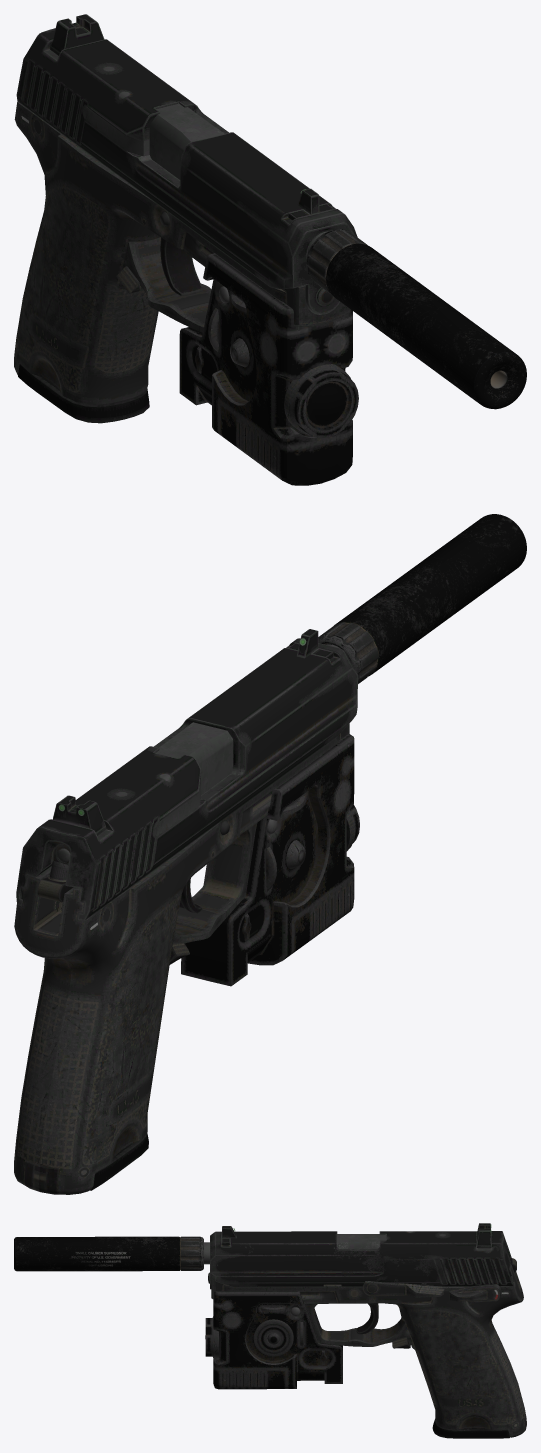
Rendered from usp45.glb.
3 renders of one model, top to bottom at view 1: azimuth 30°, elevation 25°; view 2: azimuth 150°, elevation 25°; view 3: azimuth 270°, elevation 25°, orthographic. The views are drawn at different scales.
Visible parts, largest first — view 1: usp45; view 2: usp45; view 3: usp45.
Part boxes in pixels (x1=…): usp45: x1=14, y1=14, x2=526, y2=485; usp45: x1=14, y1=514, x2=526, y2=1194; usp45: x1=14, y1=1223, x2=526, y2=1438.
Size of the model in its own units: 0.049 by 0.1734 by 0.4.
Materials: 7 (7 with a texture image).
